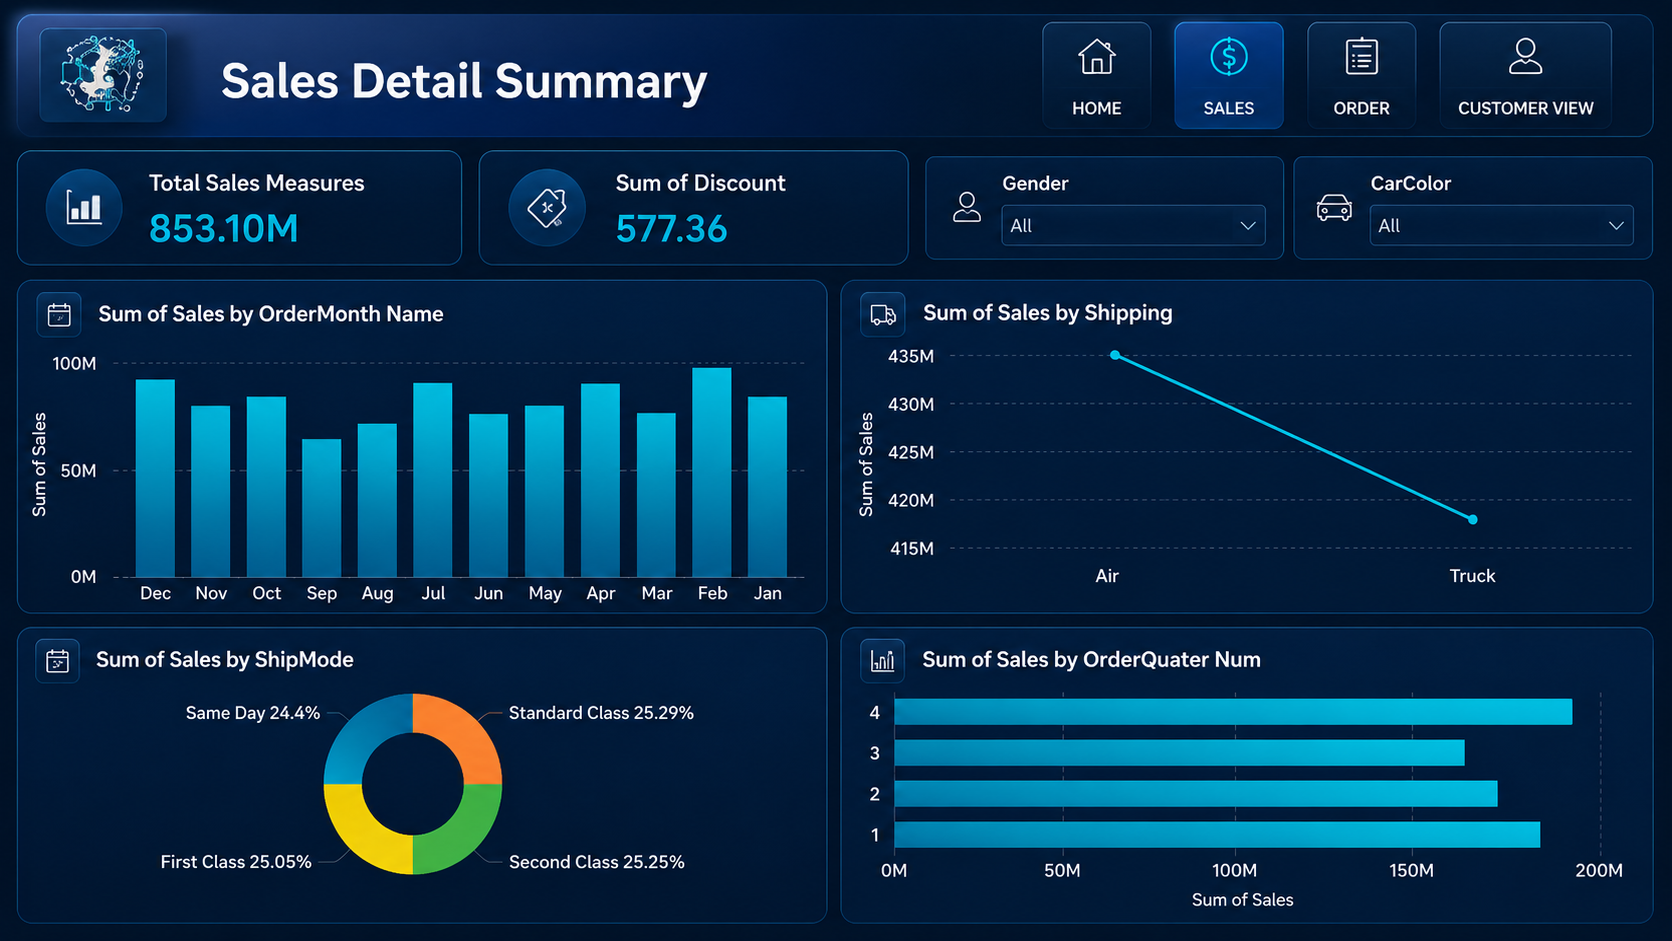

What the dashboard file says about the page in this screenshot:
{"tool":"powerbi","page":{"name":"Sales Performance","canvas":[1280,720],"ordinal":2},"visuals":[{"type":"textbox","box":[176.1,15.7,628.6,54.3],"z":0},{"type":"shape","box":[14.5,68.8,1249.9,27.7],"z":1000},{"type":"cardVisual","fields":{"Data":["DAX Measures.TotalSales Measures"]},"box":[15.1,96.6,295,96.6],"z":2000},{"type":"cardVisual","fields":{"Data":["Sum(cars_data.Discount)"]},"box":[345.2,94.1,295,99.2],"z":3000},{"type":"columnChart","fields":{"Y":["Sum(cars_data.Sales)"],"Category":["DateMaster.OrderMonth Name"]},"box":[8.4,200.3,631,307.6],"z":4000},{"type":"donutChart","fields":{"Y":["Sum(cars_data.Sales)"],"Category":["cars_data.ShipMode"]},"box":[9.7,510.3,629.8,206.3],"z":5000},{"type":"lineChart","fields":{"Category":["cars_data.Shipping"],"Y":["Sum(cars_data.Sales)"]},"box":[647.9,168.9,624.9,266.6],"z":6000},{"type":"barChart","fields":{"Y":["Sum(cars_data.Sales)"],"Category":["DateMaster.OrderQuater Num"]},"box":[648.9,445.6,625.1,269.9],"z":7000},{"type":"slicer","fields":{"Values":["cars_data.Gender"]},"box":[711.7,94.1,233.5,72.8],"z":8000},{"type":"slicer","fields":{"Values":["cars_data.CarColor"]},"box":[991.6,94.1,233.5,72.8],"z":9000},{"type":"image","box":[24.1,3.6,108.6,79.6],"z":10000},{"type":"image","box":[1011,15.7,61.5,62.7],"z":11000},{"type":"image","box":[932.6,15.7,67.6,62.7],"z":12000},{"type":"image","box":[1083.4,15.7,65.1,62.7],"z":13000},{"type":"image","box":[1161.8,15.7,66.4,62.7],"z":14000}]}

Visuals, with their boxes in screenshot pixels (x1, y1, x2, y2), scaled from the page's 1280x720 canvas onto the 1672x941 screenshot:
textbox: [230,21,1051,91]
shape: [19,90,1652,126]
cardVisual - DAX Measures.TotalSales Measures: [20,126,405,253]
cardVisual - Sum(cars_data.Discount): [451,123,836,253]
columnChart - Sum(cars_data.Sales) x DateMaster.OrderMonth Name: [11,262,835,664]
donutChart - Sum(cars_data.Sales) x cars_data.ShipMode: [13,667,835,937]
lineChart - cars_data.Shipping x Sum(cars_data.Sales): [846,221,1663,569]
barChart - Sum(cars_data.Sales) x DateMaster.OrderQuater Num: [848,582,1664,935]
slicer - cars_data.Gender: [930,123,1235,218]
slicer - cars_data.CarColor: [1295,123,1600,218]
image: [31,5,173,109]
image: [1321,21,1401,102]
image: [1218,21,1307,102]
image: [1415,21,1500,102]
image: [1518,21,1604,102]
